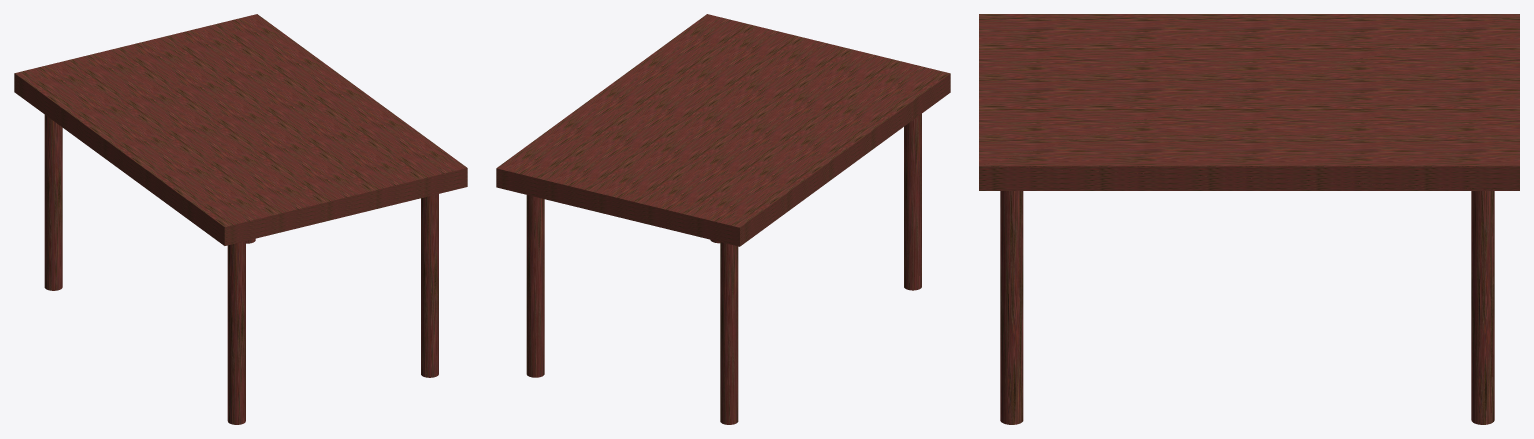
The model's file is table.fbx.
The picture shows the model from 3 angles, left to right: view 1: azimuth 30°, elevation 25°; view 2: azimuth 150°, elevation 25°; view 3: azimuth 270°, elevation 25°; orthographic projection. The views are drawn at different scales.
Visible parts, largest first — view 1: TableTop, Cylinder_3, Cylinder_4, Cylinder_1; view 2: TableTop, Cylinder_2, Cylinder_1, Cylinder_3; view 3: TableTop, Cylinder_4, Cylinder_2.
Boxes of the visible parts, x1,y1,x2,y2 form: TableTop: [14, 14, 467, 245]; Cylinder_3: [227, 241, 245, 424]; Cylinder_4: [421, 194, 438, 377]; Cylinder_1: [44, 115, 62, 290]; TableTop: [496, 14, 950, 246]; Cylinder_2: [526, 195, 544, 377]; Cylinder_1: [720, 242, 738, 424]; Cylinder_3: [904, 114, 921, 290]; TableTop: [979, 14, 1519, 190]; Cylinder_4: [1000, 191, 1023, 424]; Cylinder_2: [1471, 191, 1494, 424].
Bounding box in the file's own units: 200 × 165 × 300.
Materials: 2 (2 with a texture image).
